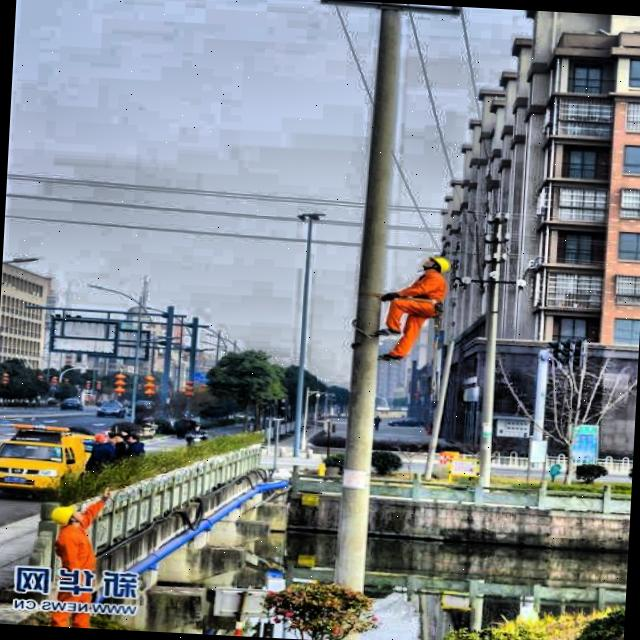helmet: (46, 502, 88, 530), (414, 251, 452, 277)
